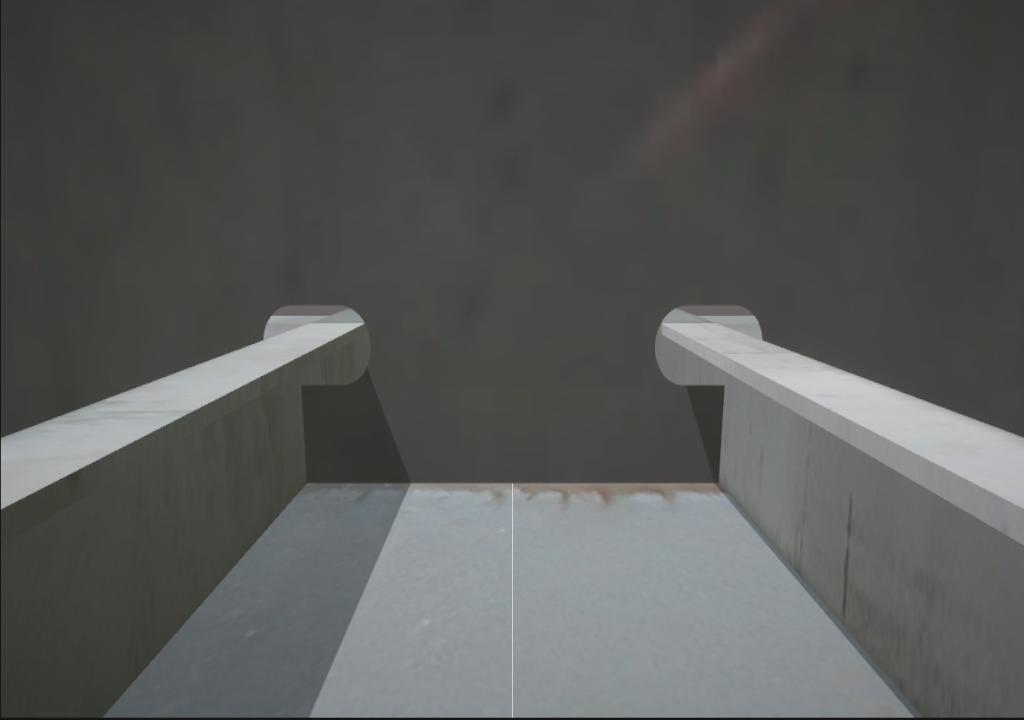fillet_yong_jeop_jang: (296, 471, 728, 497)
longi_yong_jeop_jang: (293, 377, 326, 491), (706, 380, 734, 495)
